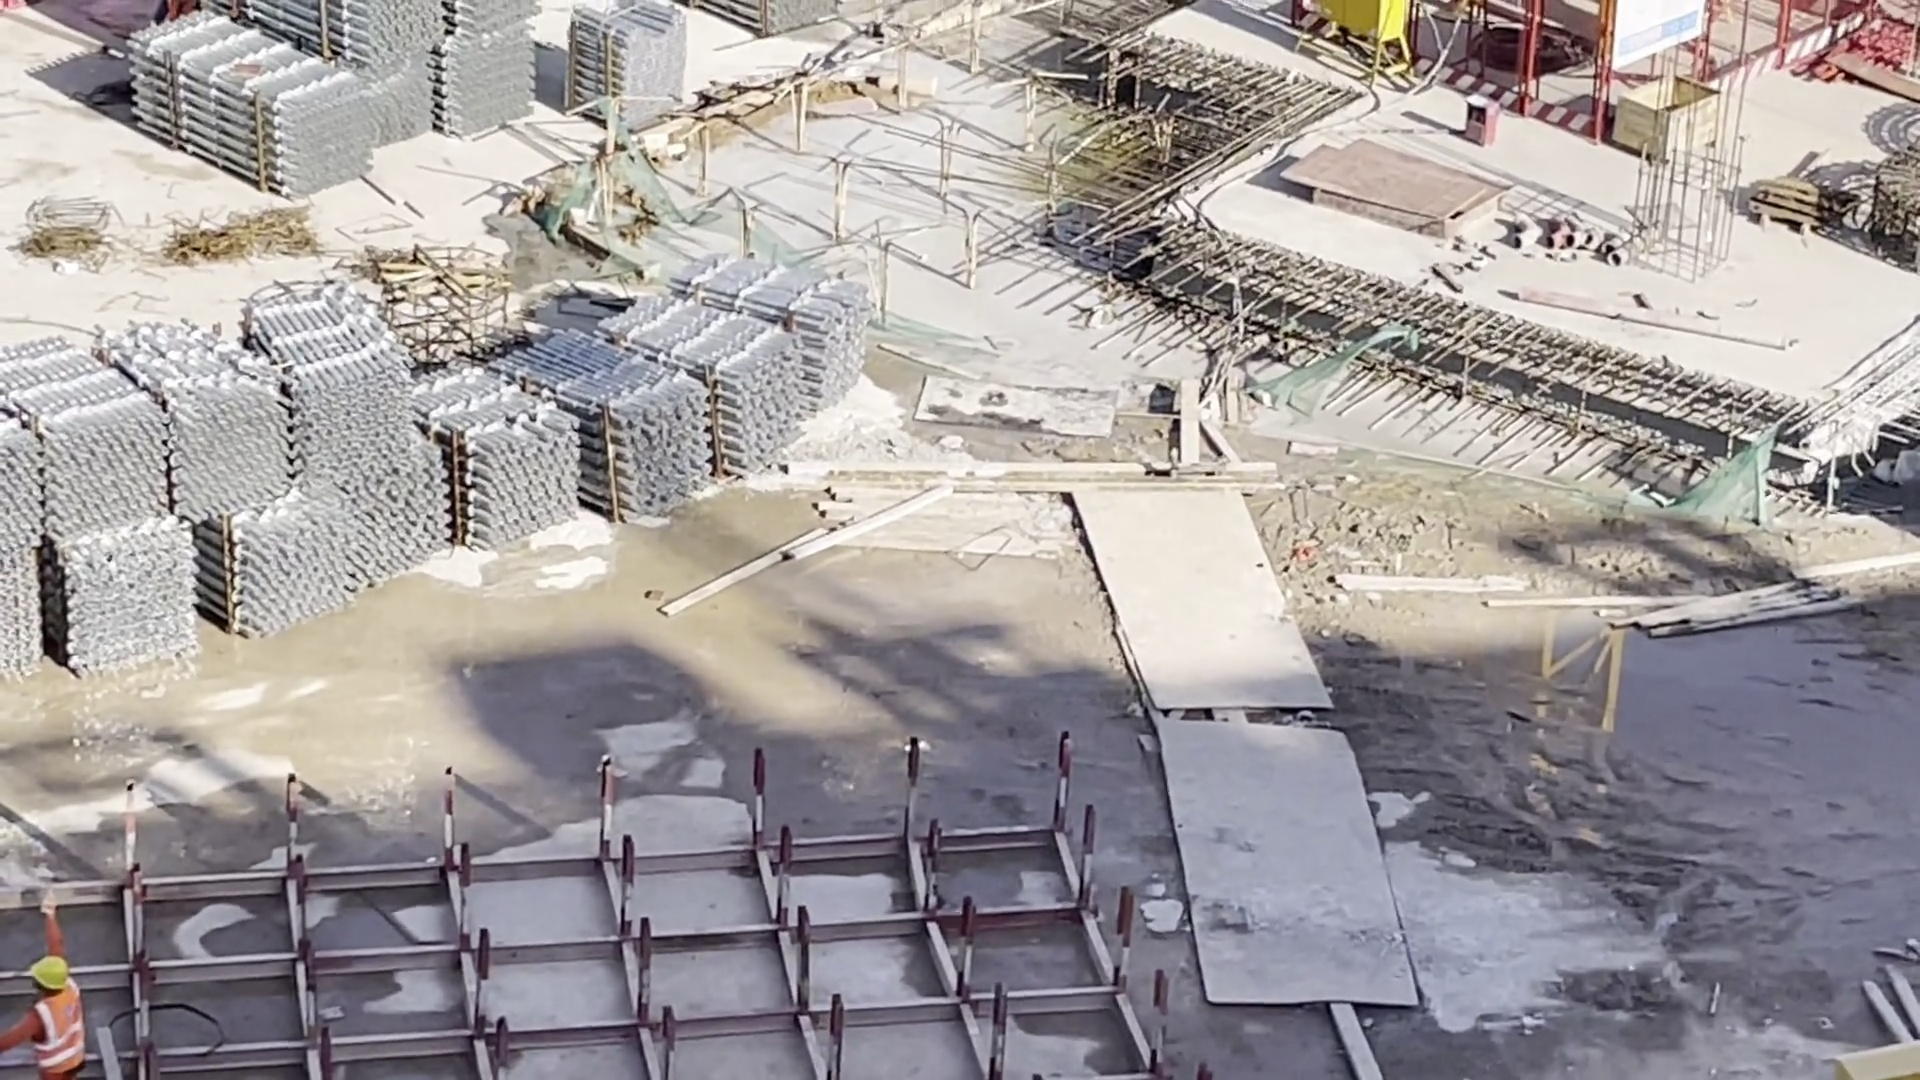board: (1296, 130, 1524, 234)
helmet: (20, 956, 75, 1004)
person: (5, 961, 116, 1080)
scaffold: (1, 251, 878, 692), (132, 1, 531, 196), (559, 1, 688, 126)
vest: (19, 1002, 88, 1063)
